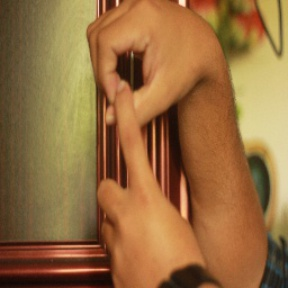Q: (82, 1, 216, 263)
